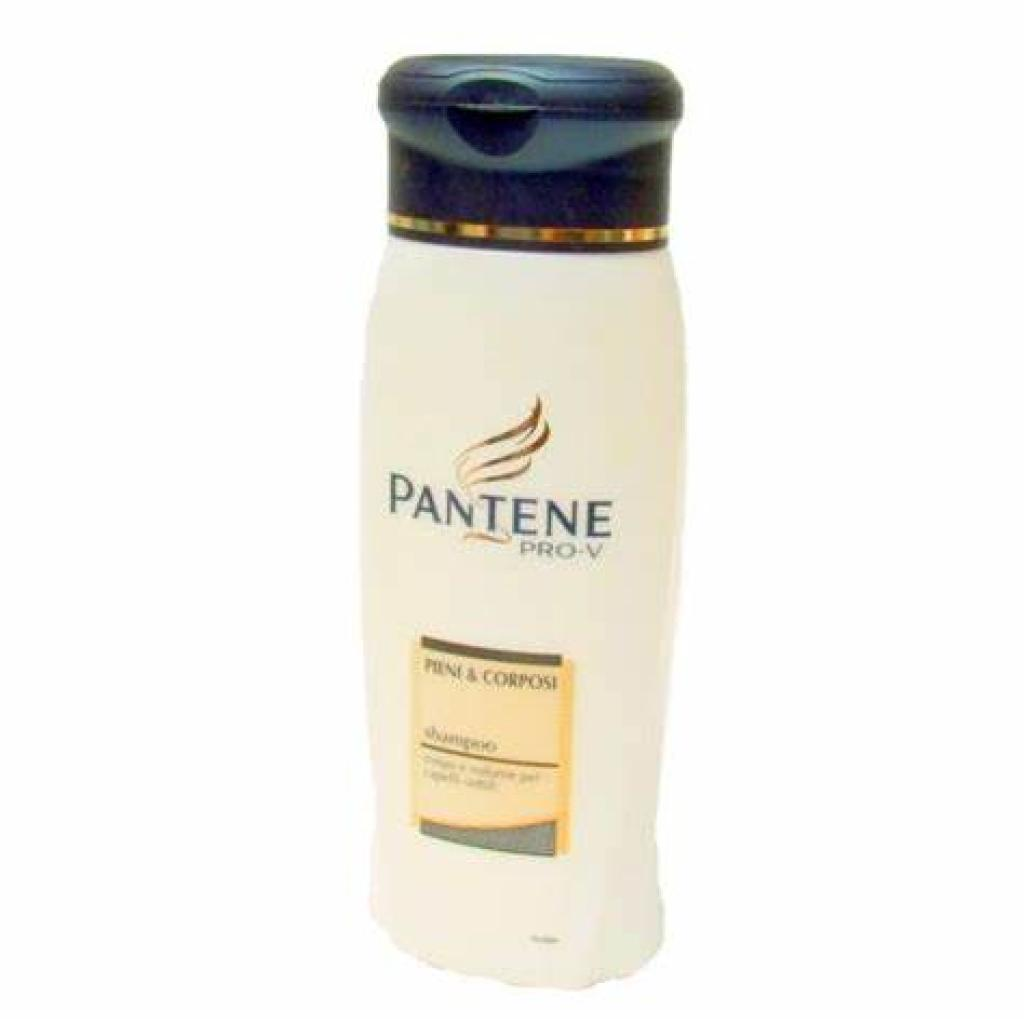plastic: (320, 46, 710, 998)
